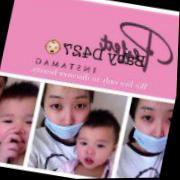NONE: (1, 106, 39, 158), (74, 133, 116, 173)
WRONG: (40, 85, 96, 140), (127, 98, 175, 157)
